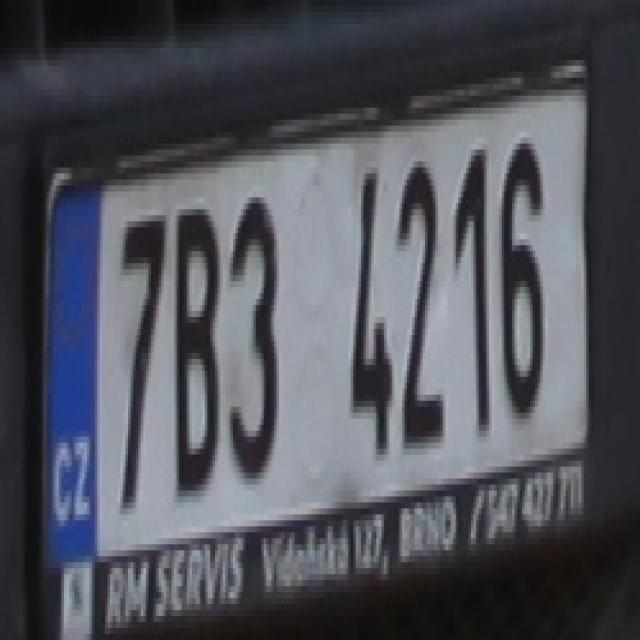1: (453, 150, 492, 436)
2: (396, 162, 451, 448)
3: (225, 186, 282, 497)
4: (346, 162, 394, 448)
6: (497, 132, 548, 424)
7: (116, 210, 166, 508)
B: (174, 210, 223, 484)
